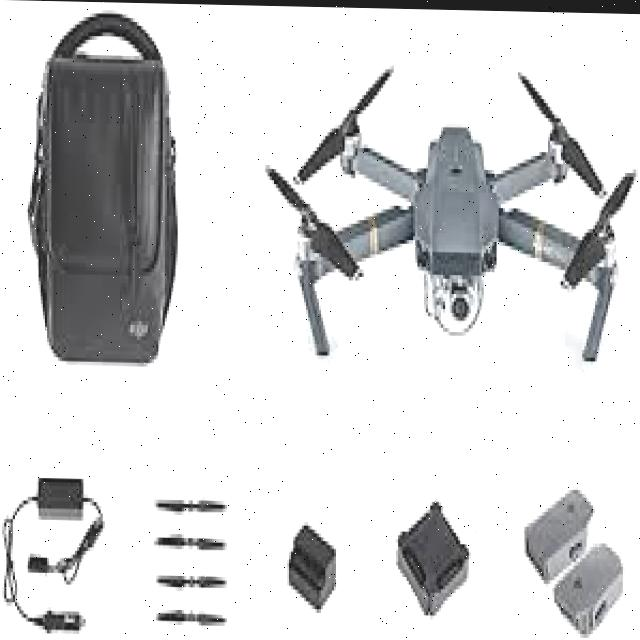drone: (268, 68, 640, 394)
